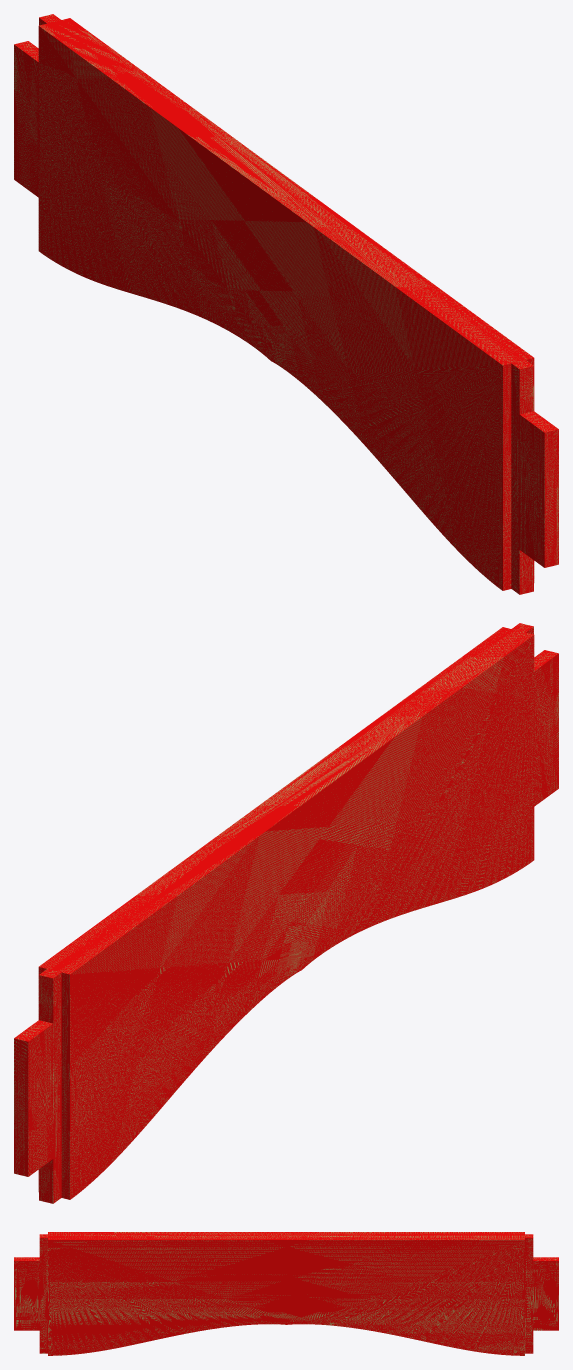
Rendered from original-51.obj.
3 views of the same model, one above another, from view 1: azimuth 30°, elevation 25°; view 2: azimuth 150°, elevation 25°; view 3: azimuth 270°, elevation 25° (orthographic). The views are drawn at different scales.
Parts seen in each view (by area): view 1: Side_rail2/Side_rail12/mesh47/mesh47-geometry#mesh47-geometry; view 2: Side_rail2/Side_rail12/mesh47/mesh47-geometry#mesh47-geometry; view 3: Side_rail2/Side_rail12/mesh47/mesh47-geometry#mesh47-geometry.
Part boxes in pixels (bbox=[...]): Side_rail2/Side_rail12/mesh47/mesh47-geometry#mesh47-geometry: bbox=[14, 14, 558, 594]; Side_rail2/Side_rail12/mesh47/mesh47-geometry#mesh47-geometry: bbox=[14, 623, 558, 1203]; Side_rail2/Side_rail12/mesh47/mesh47-geometry#mesh47-geometry: bbox=[14, 1232, 558, 1355].
Bounding box in the file's own units: 0.0231 × 0.1575 × 0.6722.
